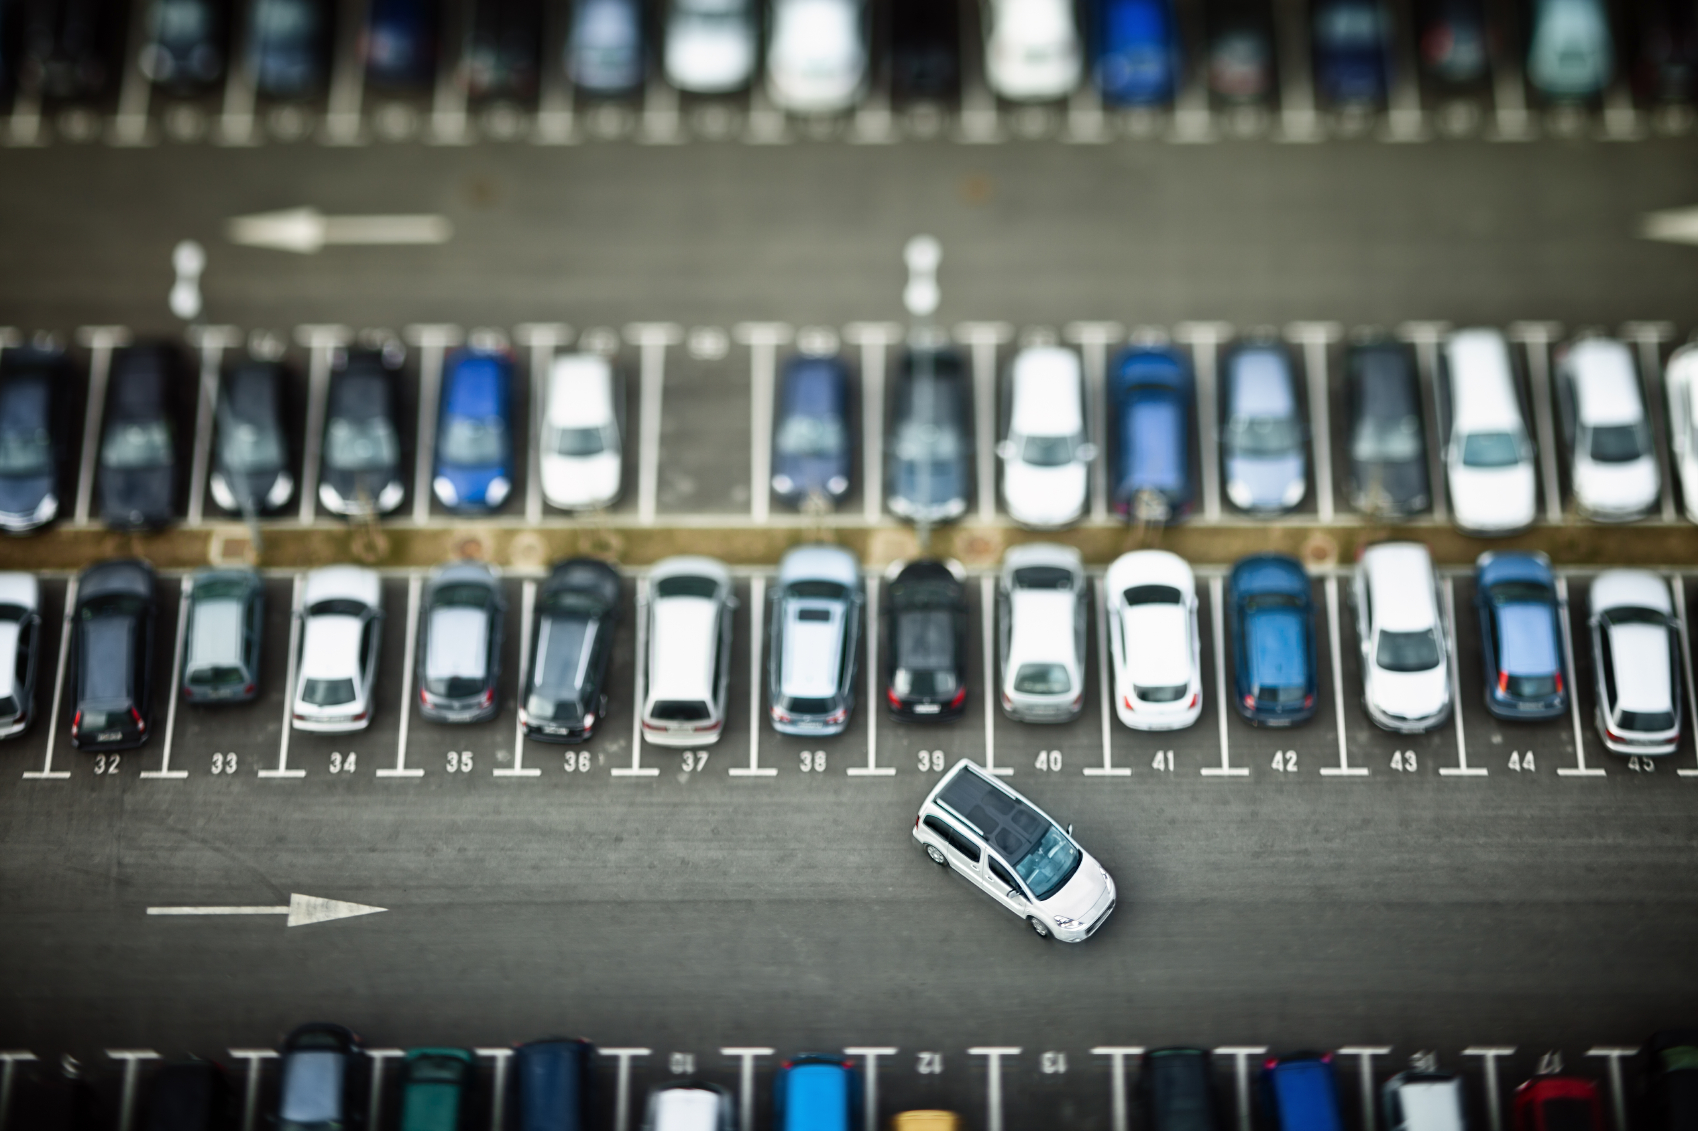empyt_space: (624, 324, 770, 530)
